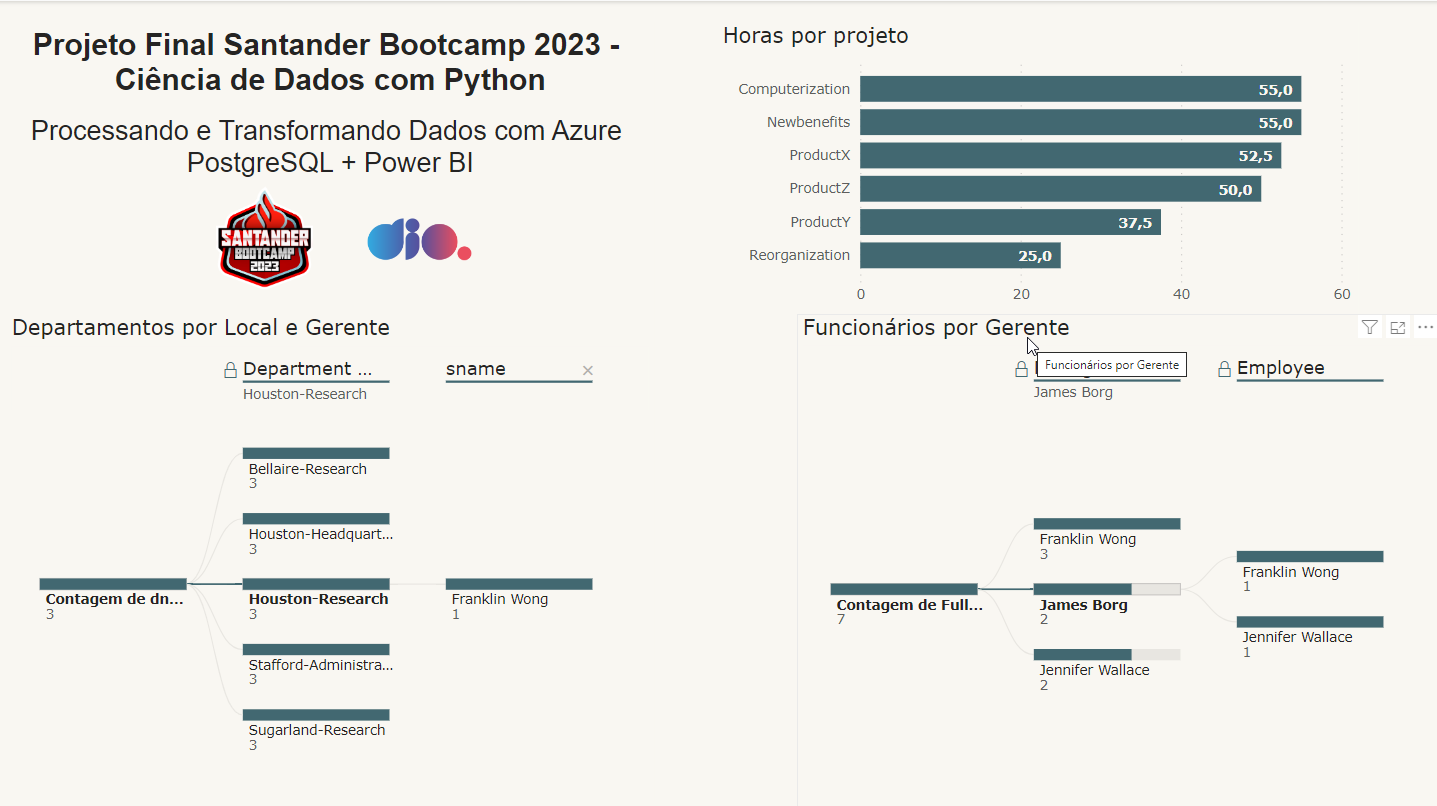

The page's visual inventory and layout, read from the dashboard file:
{"tool":"powerbi","page":{"name":"Página 1","canvas":[1280,720],"ordinal":0},"visuals":[{"type":"clusteredBarChart","title":"Horas por projeto","fields":{"Y":["public works_on.hours"],"Category":["public project.pname"]},"box":[640,18.9,568.9,258.9],"z":0},{"type":"decompositionTreeVisual","title":"Funcionários por Gerente","fields":{"ExplainBy":["public employee.supname","public employee.Full Name"],"Analyze":["public employee.Full Name"]},"box":[711,278,569,442.1],"z":1000},{"type":"decompositionTreeVisual","title":"Departamentos por Local e Gerente","fields":{"Analyze":["public department.dname"],"ExplainBy":["public dept_locations.Department Location","public department.sname"]},"box":[10.1,278,575,432],"z":2000},{"type":"textbox","box":[10,19,575,259],"z":3000},{"type":"image","box":[187.8,160,102.2,101.1],"z":4000},{"type":"image","box":[325.6,157.8,102.2,105.6],"z":4001}]}

Visuals, with their boxes in screenshot pixels (x1, y1, x2, y2), scaled from the page's 1280x720 canvas onto the 1437x806 screenshot:
"Horas por projeto" clusteredBarChart: select_region(718, 21, 1357, 311)
"Funcionários por Gerente" decompositionTreeVisual: select_region(798, 311, 1436, 805)
"Departamentos por Local e Gerente" decompositionTreeVisual: select_region(11, 311, 657, 795)
textbox: select_region(11, 21, 657, 311)
image: select_region(211, 179, 326, 292)
image: select_region(366, 177, 480, 295)
